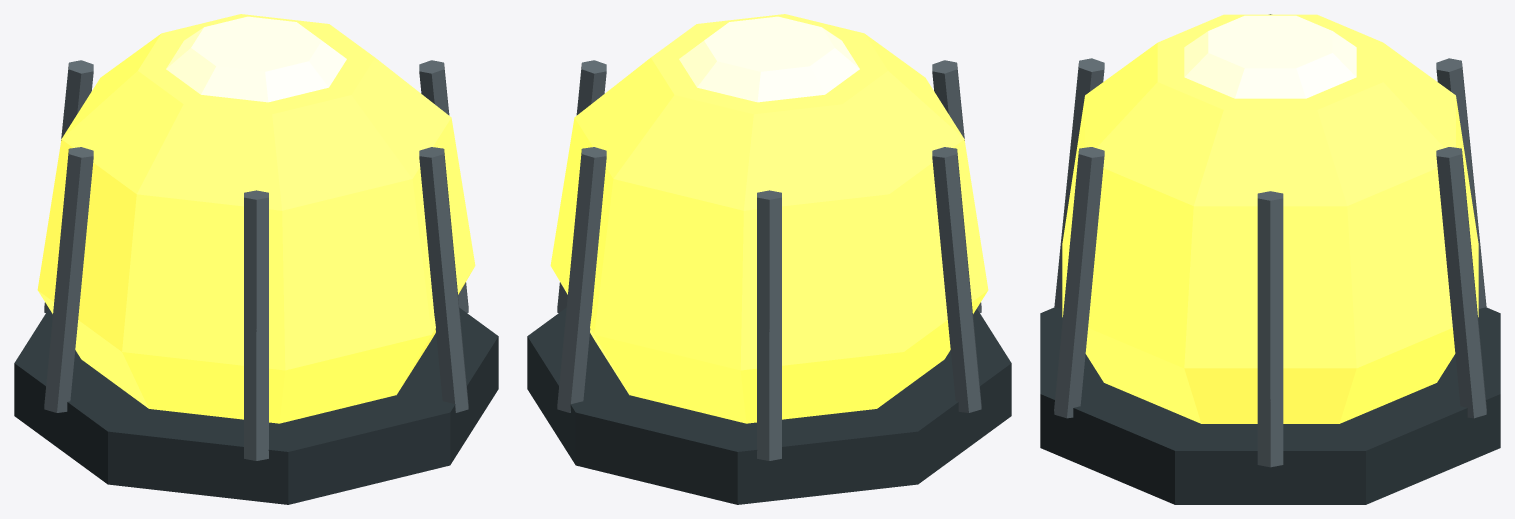
File: wsc-kit-007-storm-beacon-charged-lamp.glb
3 renders of one model, left to right at view 1: azimuth 30°, elevation 25°; view 2: azimuth 150°, elevation 25°; view 3: azimuth 270°, elevation 25°, orthographic. The views are drawn at different scales.
Visible parts, largest first — view 1: Beacon_Charged_Lamp_Insert; view 2: Beacon_Charged_Lamp_Insert; view 3: Beacon_Charged_Lamp_Insert.
Boxes of the visible parts, x1=… form: Beacon_Charged_Lamp_Insert: x1=14, y1=14, x2=498, y2=504; Beacon_Charged_Lamp_Insert: x1=527, y1=14, x2=1011, y2=504; Beacon_Charged_Lamp_Insert: x1=1040, y1=14, x2=1500, y2=504.
Bounding box in the file's own units: 0.7118 × 0.575 × 0.656.
